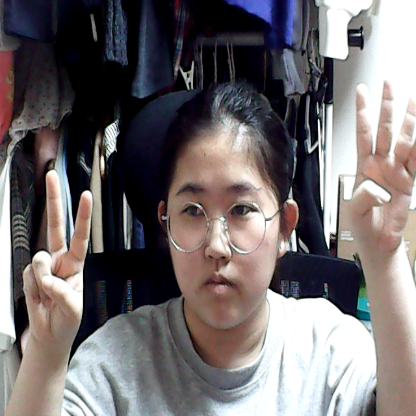Finger_2: (12, 164, 107, 355)
Finger_4: (331, 64, 416, 281)
